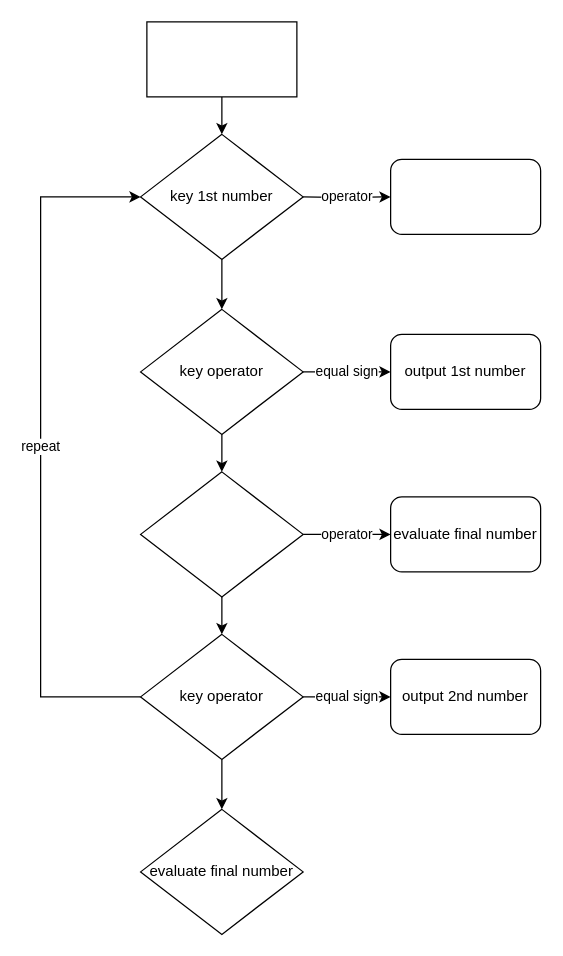
The diagram is 563 pixels wide and 956 high, and some of its shapes have lost their labels. The centre of each missing label's shape, as x and y in pixels:
"display no change" goes at [465,196].
"key 2nd number" goes at [221,534].
"start" goes at [221,59].
